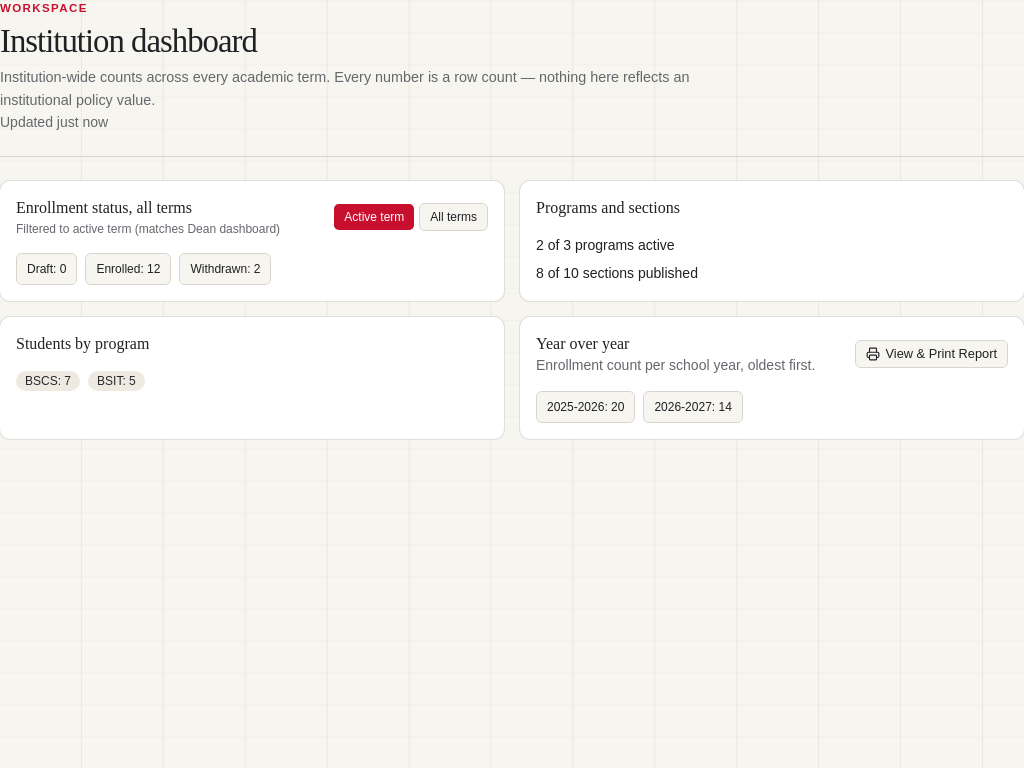
Test: InstitutionDashboardWorkspace › opens year-over-year report dialog when View & Print Report is clicked
Click the button "View & Print Report" at (931, 354), box x1=855 y1=340 x2=1008 y2=368
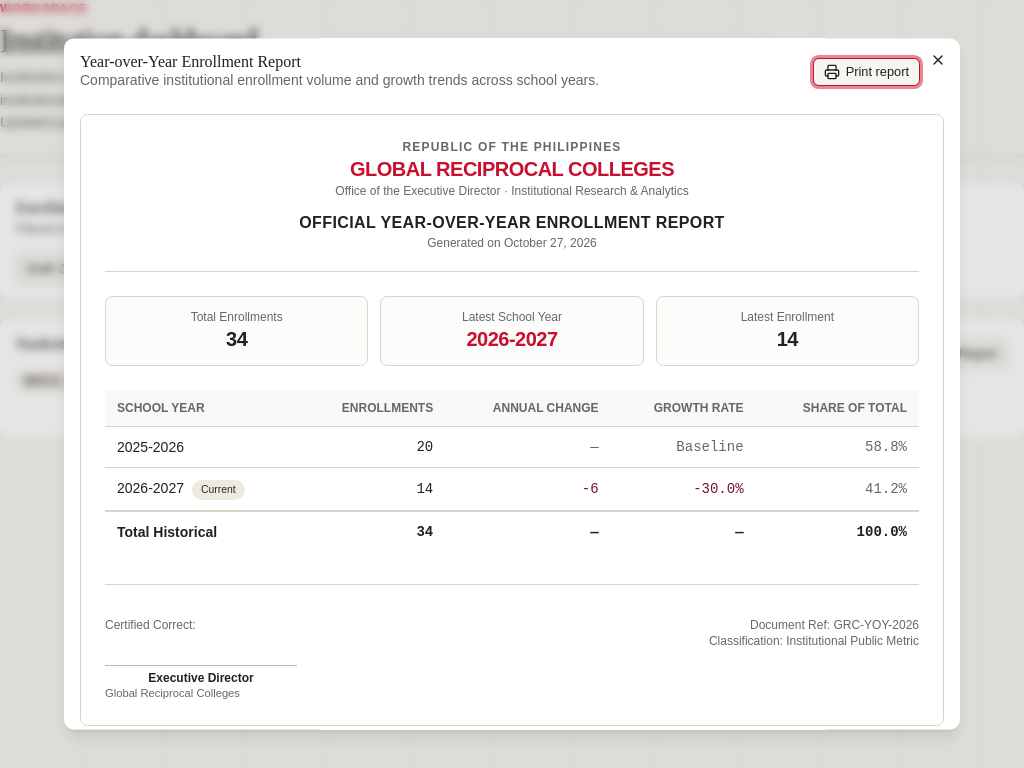
Result: the dialog "Year-over-Year Enrollment Report" is shown
